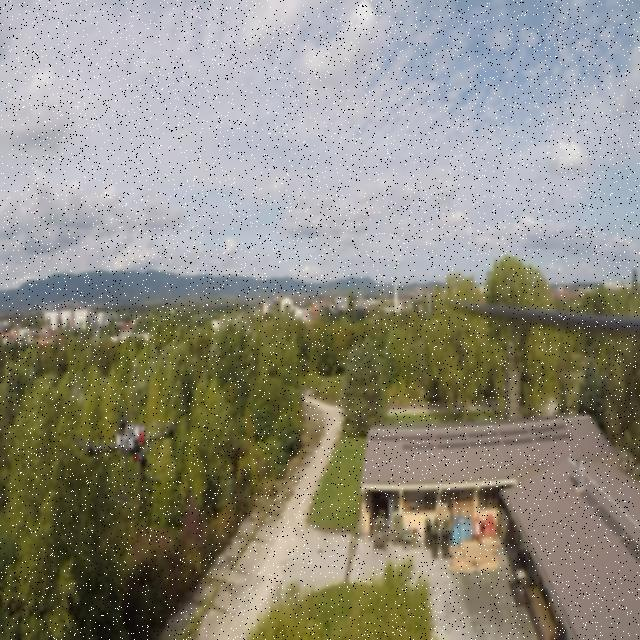UAV: (79, 412, 177, 508)
